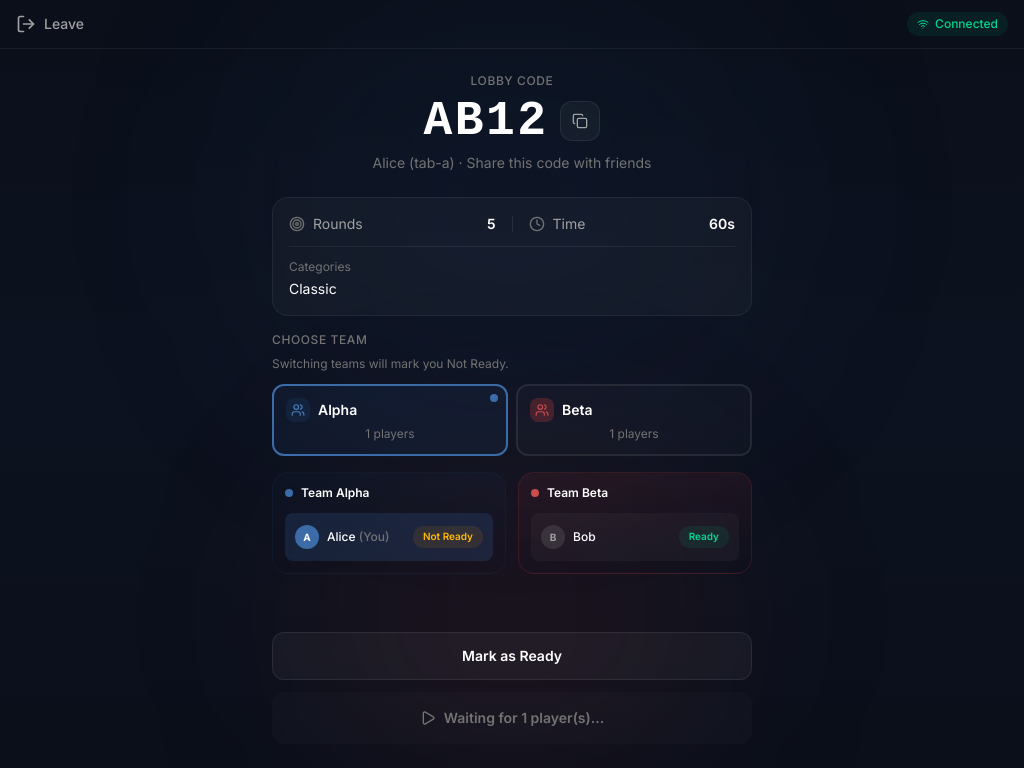
it: LobbyPage › opens confirm dialog when leave button is clicked
The width and height of the screenshot is (1024, 768).
Click the button with aria-label "Leave lobby" at (50, 24), box x1=16 y1=14 x2=84 y2=34
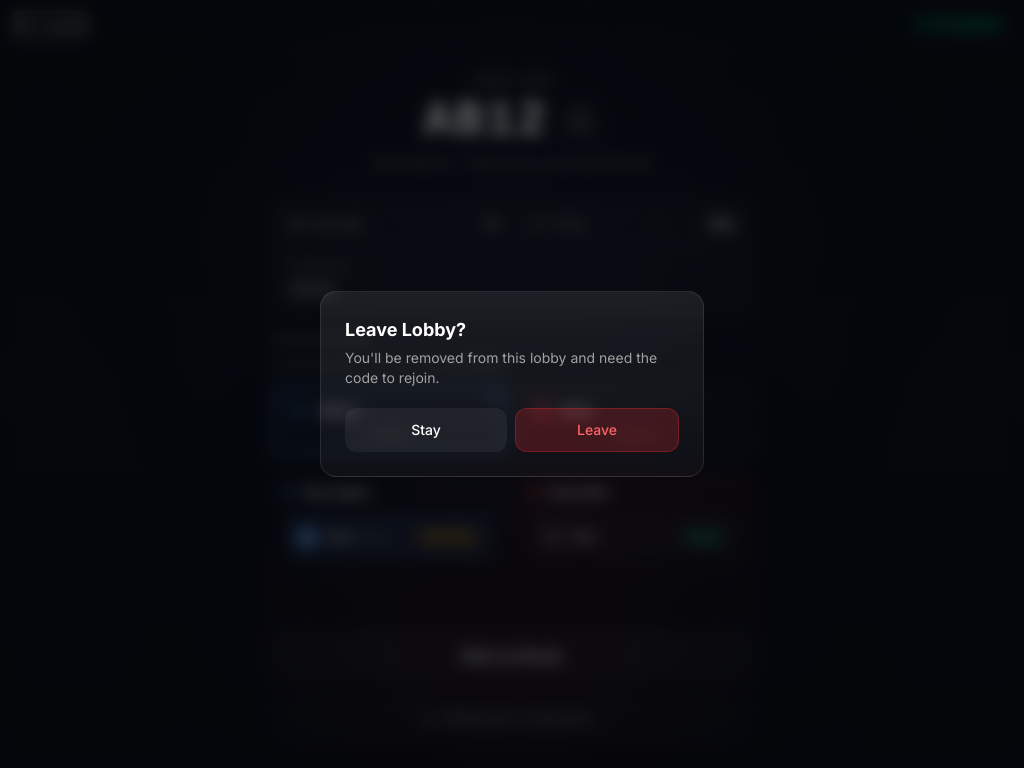
Result: the heading "Leave Lobby?" is shown at x1=345 y1=319 x2=466 y2=340
Result: the text "You'll be removed from this lobby and need the code to rejoin." is shown at x1=345 y1=348 x2=679 y2=388
